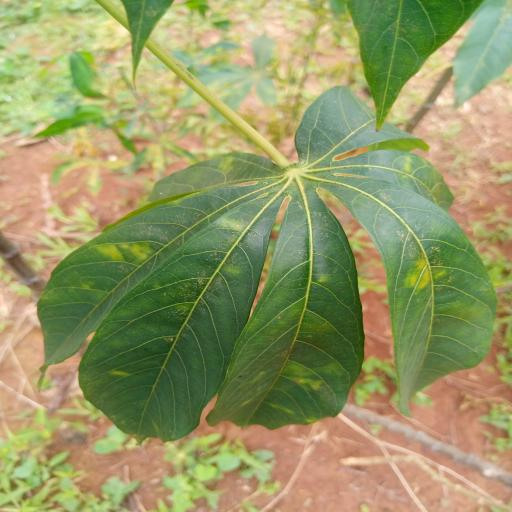Cassava_Mosaic: (40, 87, 496, 448)
